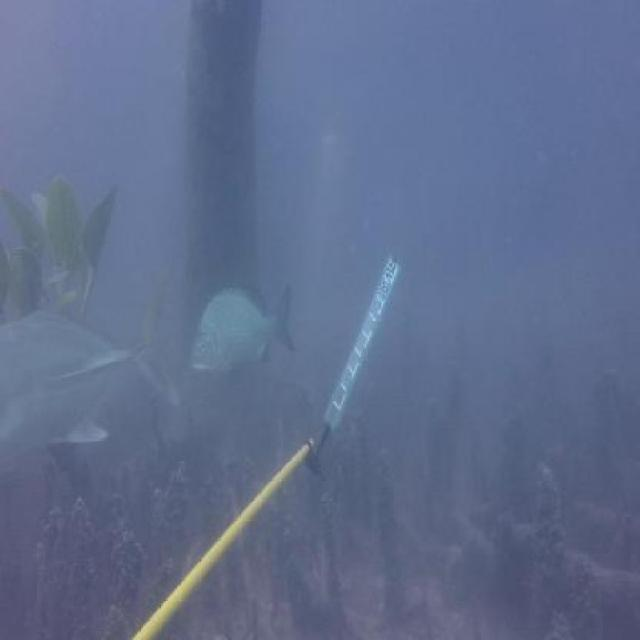Caranx: (1, 267, 181, 459)
acanthopagrus_palmaris: (190, 276, 295, 382)
